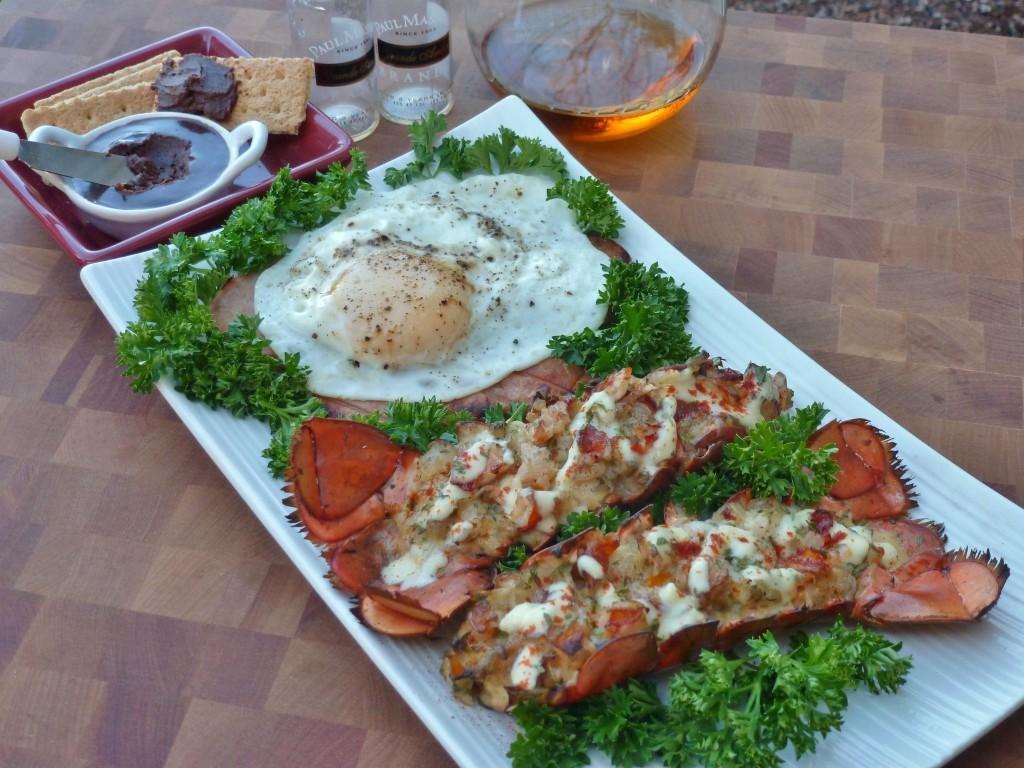fried egg: (247, 199, 629, 393)
